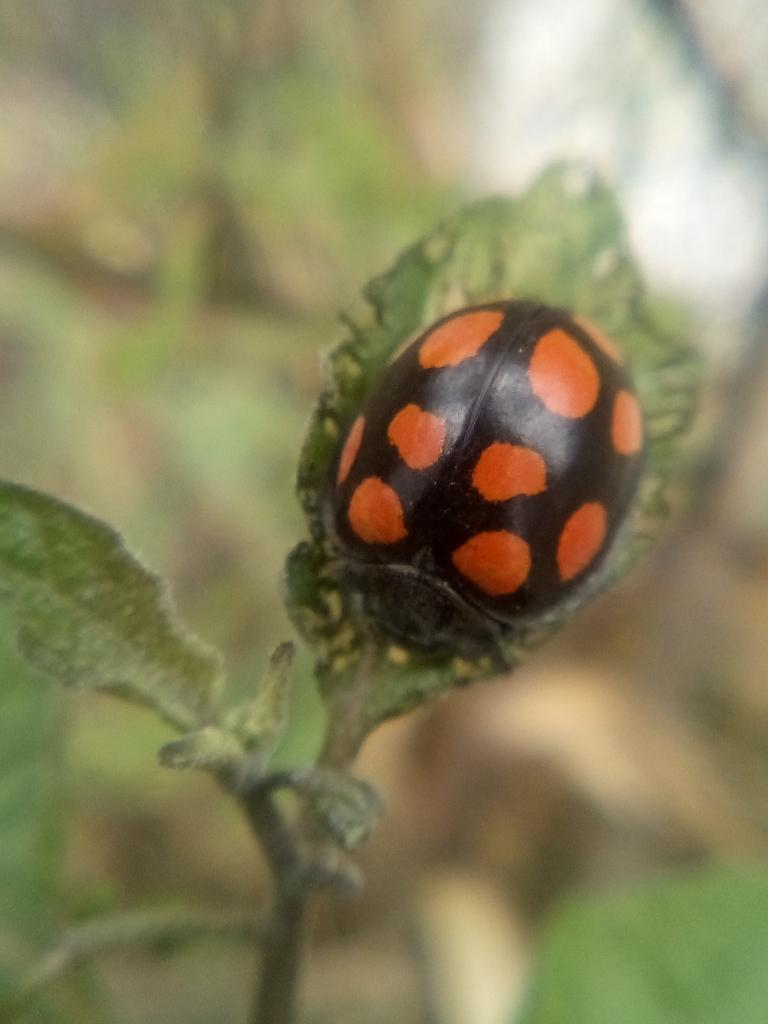ladybug: (316, 294, 654, 679)
